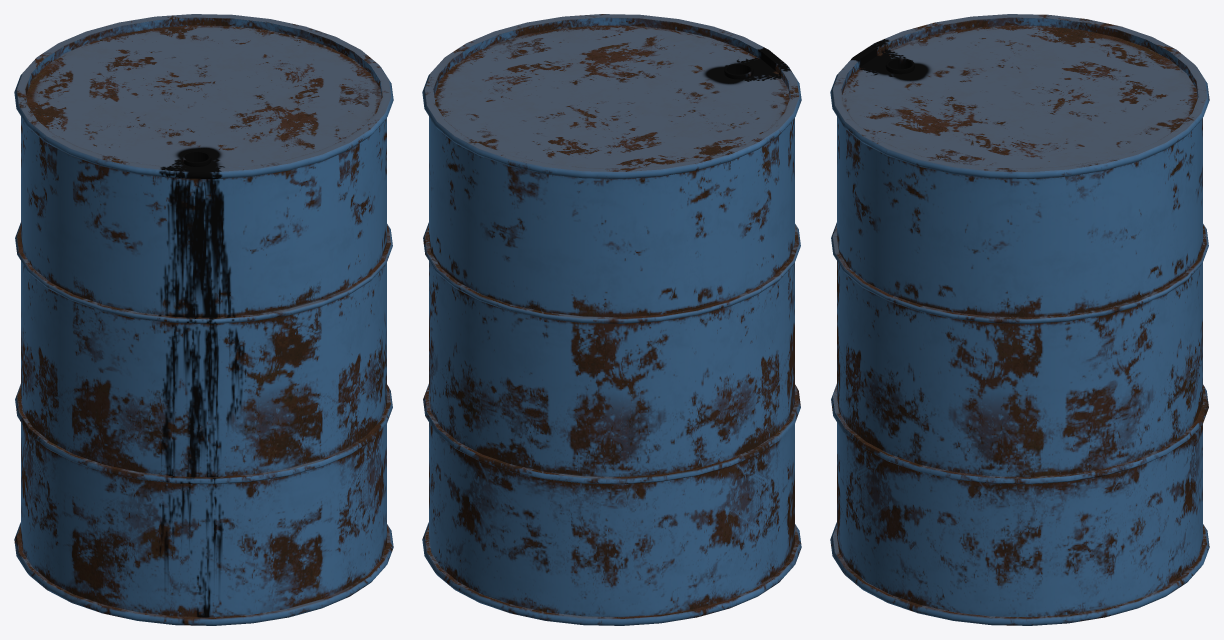
Rendered from tambor-azul.obj.
3 views of the same model, side by side, from view 1: azimuth 30°, elevation 25°; view 2: azimuth 150°, elevation 25°; view 3: azimuth 270°, elevation 25° (orthographic).
Parts seen in each view (by area): view 1: tambor_azul; view 2: tambor_azul; view 3: tambor_azul.
Boxes of the visible parts, left/top/right/bottom form: tambor_azul: left=14, top=14, right=393, bottom=625; tambor_azul: left=422, top=14, right=801, bottom=625; tambor_azul: left=830, top=14, right=1209, bottom=625.
Bounding box in the file's own units: 1.69 × 2.24 × 1.69.
1 material, 1 textured.
